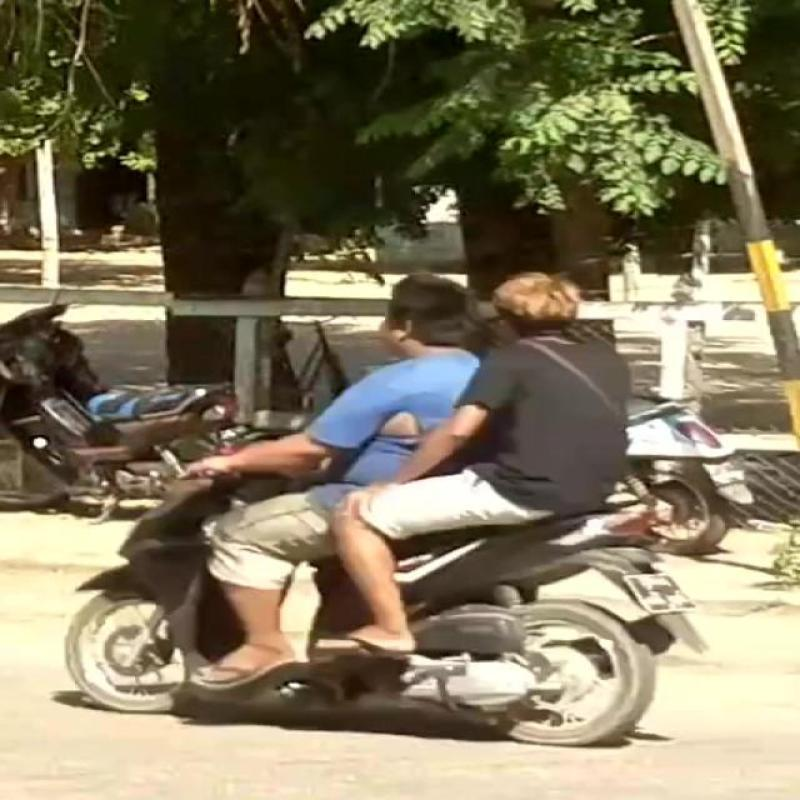nohelmet: (350, 266, 485, 364), (504, 261, 635, 357)
